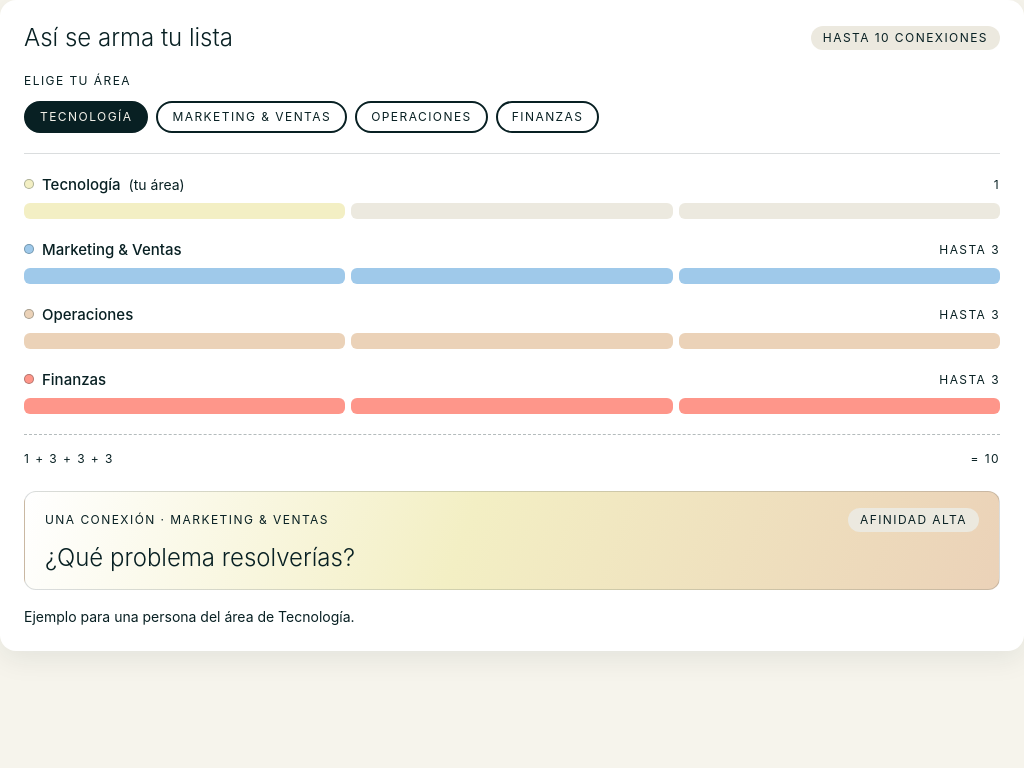
Test: PanelMatch › la conexión de ejemplo es de otra área y la nota nombra la propia
Expected: the text "Una conexión · Marketing & Ventas" is shown, x1=45 y1=512 x2=329 y2=528
Expected: the text "Ejemplo para una persona del área de Tecnología." is shown, x1=24 y1=608 x2=354 y2=625
Click the button "Finanzas" at (548, 117), box x1=496 y1=101 x2=600 y2=133
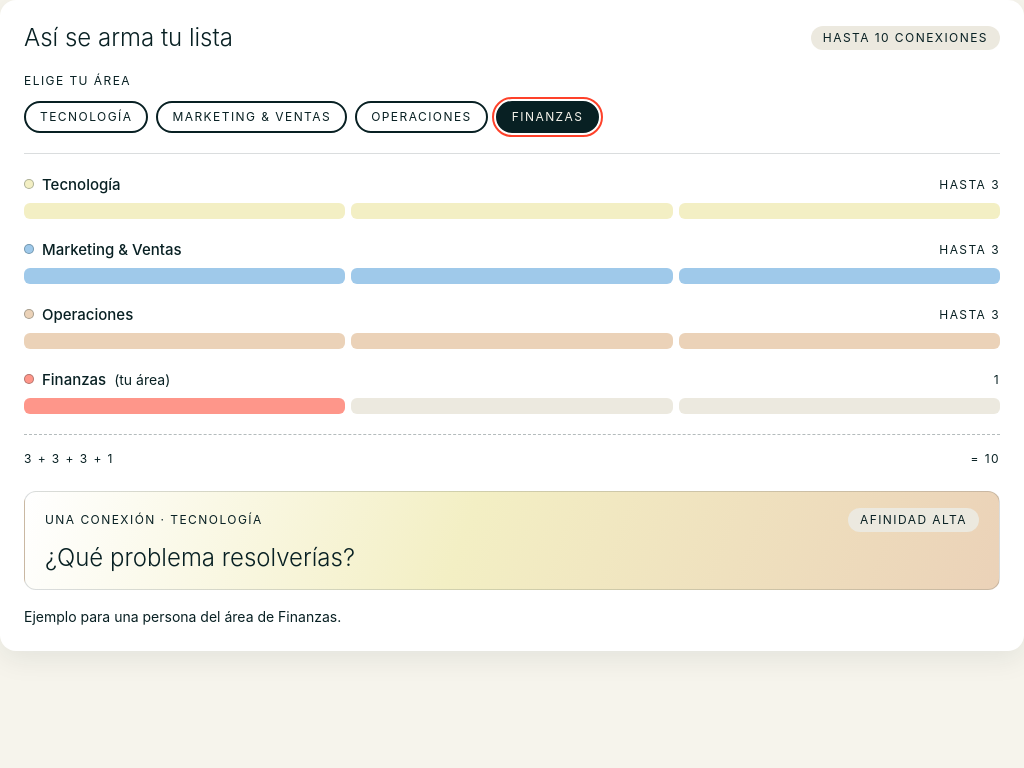
Expected: the text "Una conexión · Tecnología" is shown, x1=45 y1=512 x2=263 y2=528
Expected: the text "3 + 3 + 3 + 1" is shown, x1=24 y1=451 x2=114 y2=467
